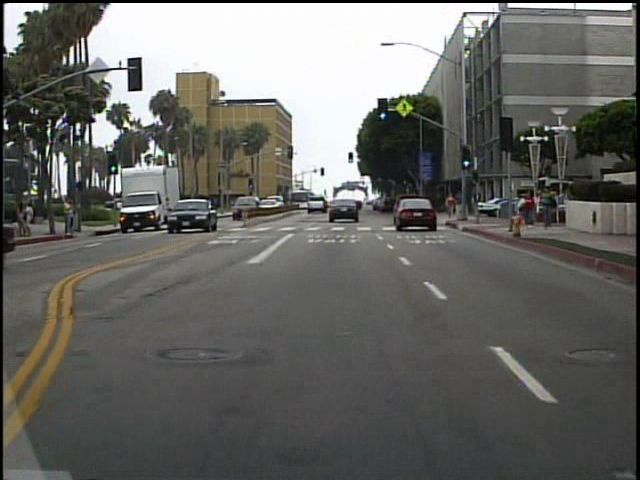person: (63, 193, 77, 238), (442, 193, 458, 219)
